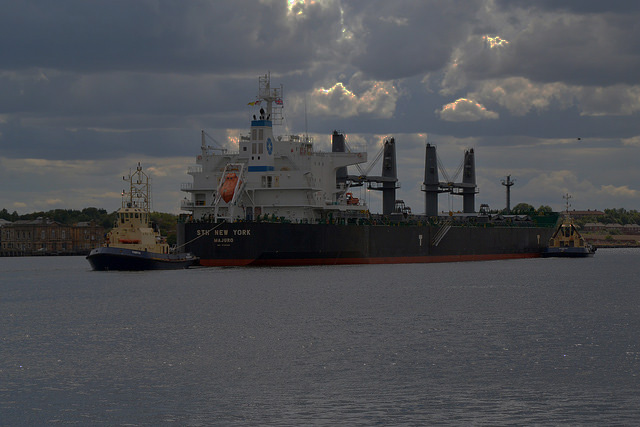bulk carrier: (177, 77, 552, 266)
tug_boat: (86, 151, 194, 278), (549, 192, 602, 258)
